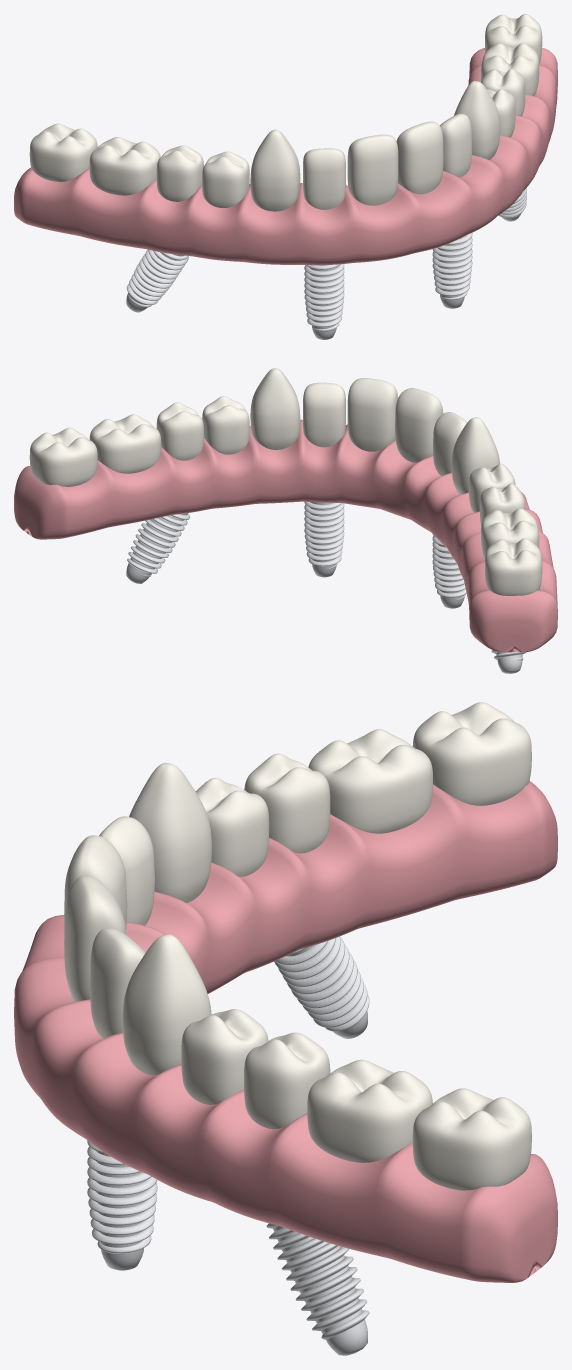
Rendered from protocolo.glb.
3 renders of one model, top to bottom at view 1: azimuth 30°, elevation 25°; view 2: azimuth 150°, elevation 25°; view 3: azimuth 270°, elevation 25°, orthographic. The views are drawn at different scales.
Parts seen in each view (by area): view 1: Gengiva, Dente_01_molar, Dente_06_central, Dente_04_canino, Dente_00_molar, Dente_07_central, Implante_5, Dente_05_lateral, Implante_2, Implante_8, Dente_03_pre, Dente_09_canino (+7 smaller); view 2: Gengiva, Dente_13_molar, Dente_12_molar, Dente_07_central, Dente_09_canino, Dente_00_molar, Dente_06_central, Implante_8, Implante_11, Dente_08_lateral, Dente_04_canino, Dente_10_pre (+7 smaller); view 3: Gengiva, Dente_13_molar, Dente_12_molar, Dente_01_molar, Dente_00_molar, Dente_09_canino, Dente_04_canino, Implante_11, Implante_8, Implante_2, Dente_11_pre, Dente_10_pre (+6 smaller).
Boxes of the visible parts, left/top/right/bottom form: Gengiva: left=14, top=48, right=557, bottom=265; Dente_01_molar: left=89, top=137, right=160, bottom=195; Dente_06_central: left=347, top=134, right=398, bottom=205; Dente_04_canino: left=250, top=129, right=300, bottom=211; Dente_00_molar: left=29, top=123, right=97, bottom=181; Dente_07_central: left=396, top=121, right=443, bottom=194; Implante_5: left=304, top=264, right=344, bottom=339; Dente_05_lateral: left=303, top=148, right=345, bottom=209; Implante_2: left=126, top=249, right=188, bottom=312; Implante_8: left=432, top=233, right=472, bottom=308; Dente_03_pre: left=202, top=151, right=249, bottom=207; Dente_09_canino: left=454, top=81, right=500, bottom=159; Gengiva: left=14, top=419, right=557, bottom=652; Dente_13_molar: left=29, top=427, right=97, bottom=486; Dente_12_molar: left=89, top=414, right=161, bottom=473; Dente_07_central: left=347, top=378, right=398, bottom=451; Dente_09_canino: left=250, top=368, right=300, bottom=449; Dente_00_molar: left=485, top=538, right=542, bottom=595; Dente_06_central: left=395, top=388, right=443, bottom=462; Implante_8: left=304, top=501, right=344, bottom=577; Implante_11: left=126, top=513, right=189, bottom=583; Dente_08_lateral: left=303, top=382, right=345, bottom=447; Dente_04_canino: left=451, top=417, right=499, bottom=494; Dente_10_pre: left=202, top=396, right=249, bottom=454; Gengiva: left=14, top=781, right=557, bottom=1282; Dente_13_molar: left=412, top=1088, right=531, bottom=1190; Dente_12_molar: left=307, top=1059, right=432, bottom=1162; Dente_01_molar: left=308, top=729, right=432, bottom=833; Dente_00_molar: left=412, top=702, right=531, bottom=805; Dente_09_canino: left=122, top=934, right=211, bottom=1075; Dente_04_canino: left=129, top=762, right=211, bottom=902; Implante_11: left=266, top=1223, right=369, bottom=1355; Implante_8: left=87, top=1140, right=157, bottom=1270; Implante_2: left=274, top=936, right=369, bottom=1038; Dente_11_pre: left=244, top=1032, right=330, bottom=1129; Dente_10_pre: left=181, top=1009, right=268, bottom=1104.
Bounding box in the file's own units: 4.75 × 1.75 × 2.38.
